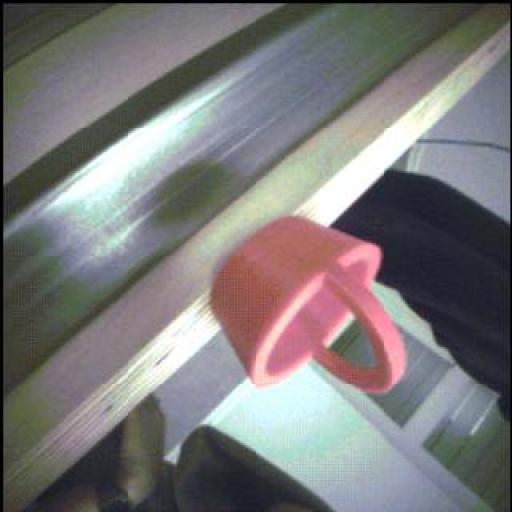Bucket: (197, 213, 423, 399)
